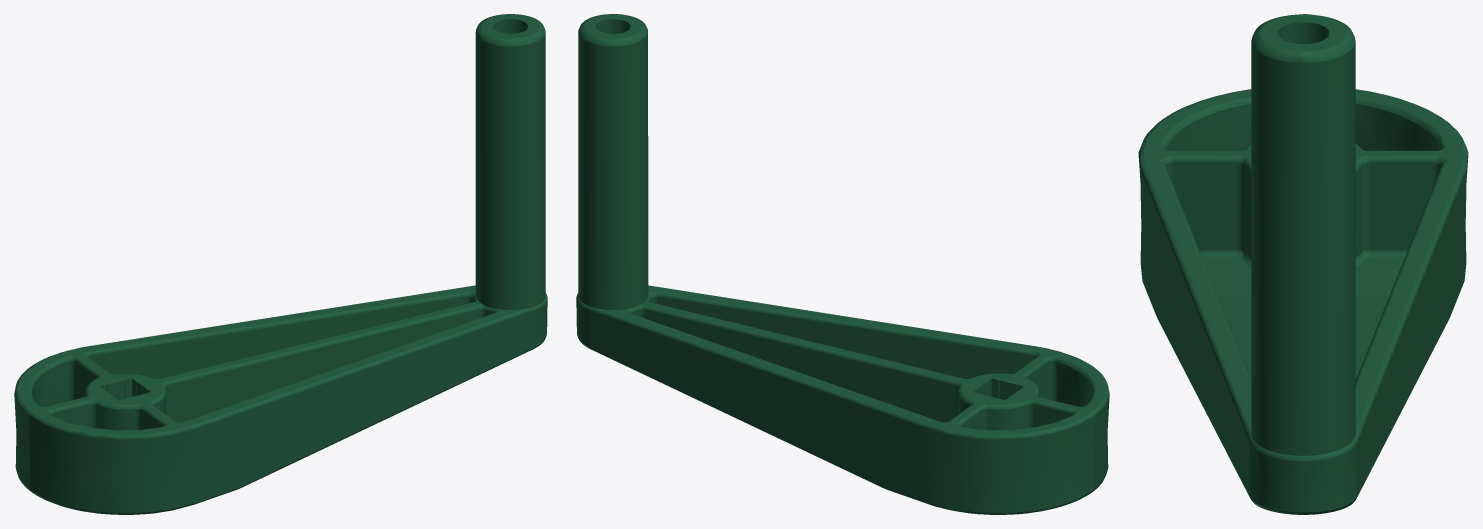
3 views of the same model, side by side, from view 1: azimuth 30°, elevation 25°; view 2: azimuth 150°, elevation 25°; view 3: azimuth 270°, elevation 25° (orthographic). The views are drawn at different scales.
Parts seen in each view (by area): view 1: 276-2045-001 Rev2; view 2: 276-2045-001 Rev2; view 3: 276-2045-001 Rev2.
Part boxes in pixels (x1=…): 276-2045-001 Rev2: x1=14, y1=14, x2=547, y2=514; 276-2045-001 Rev2: x1=576, y1=14, x2=1109, y2=514; 276-2045-001 Rev2: x1=1138, y1=14, x2=1468, y2=514.
Bounding box in the file's own units: 50.79 × 33.02 × 18.98.
